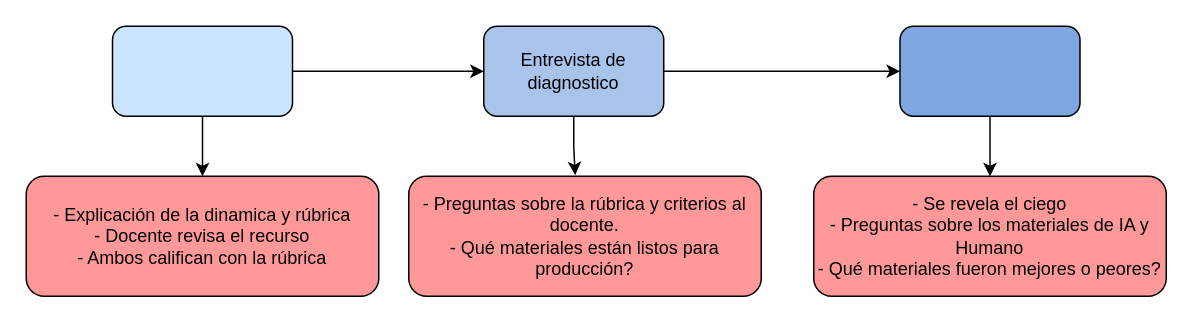
The diagram is 1193 pixels wide and 323 high, and some of its shapes have lost their labels. The centre of each missing label's shape, as x and y in pixels:
"Evaluación ciega" goes at pixel 201 70.
"Revelación del ciego" goes at pixel 989 70.
